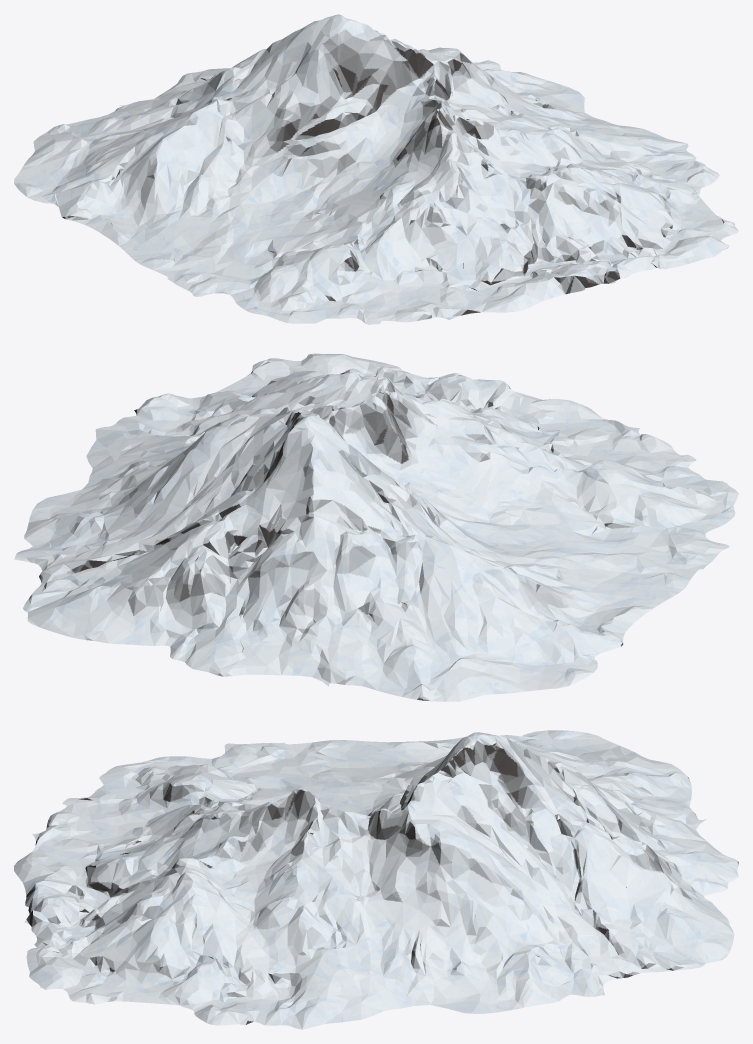
Rendered from mountain_01.gltf.
3 views of the same model, one above another, from view 1: azimuth 30°, elevation 25°; view 2: azimuth 150°, elevation 25°; view 3: azimuth 270°, elevation 25° (orthographic). The views are drawn at different scales.
Parts seen in each view (by area): view 1: mountain_01; view 2: mountain_01; view 3: mountain_01.
Boxes of the visible parts, box(x1,y1,x2,y2) form: mountain_01: box(14, 14, 738, 324); mountain_01: box(14, 353, 738, 701); mountain_01: box(14, 730, 738, 1029).
Size of the model in its own units: 23.8 by 5.63 by 24.37.
1 material, 1 textured.
